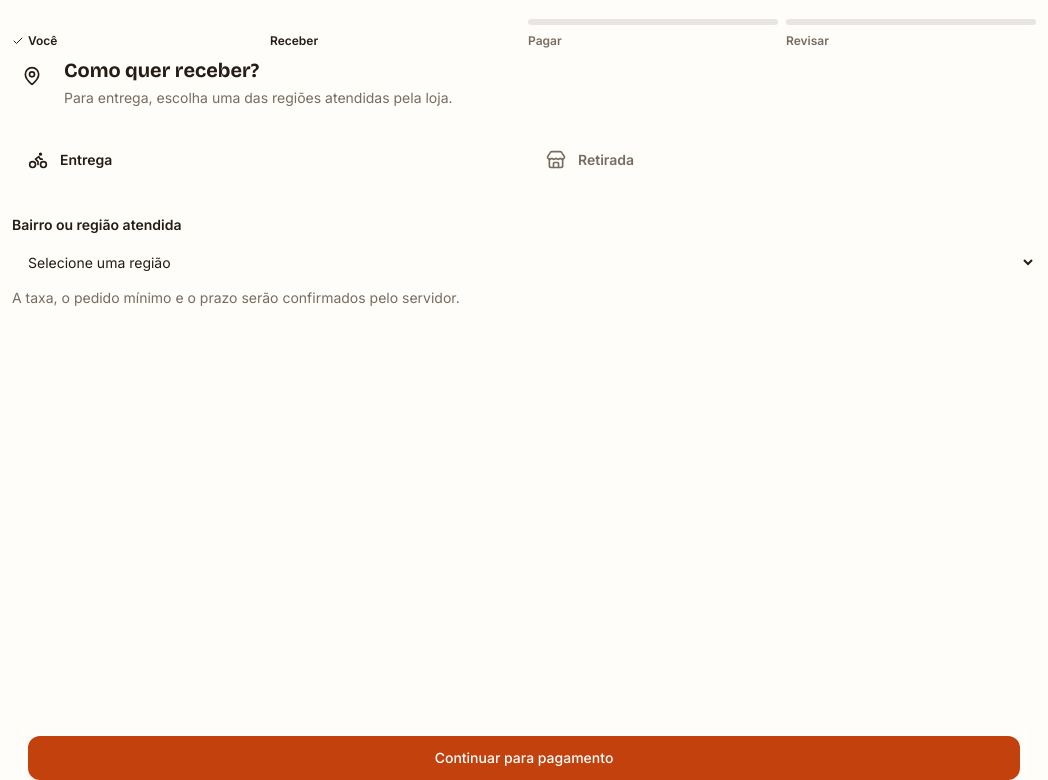
Test case: checkout público v2 › preserva o erro técnico da cotação sem acusar incorretamente a região
The image size is (1048, 780).
Select "Centro · R$ 5,00" in the dropdown labelled "Bairro ou região atendida": (524, 262) 12,240 -> 1036,284
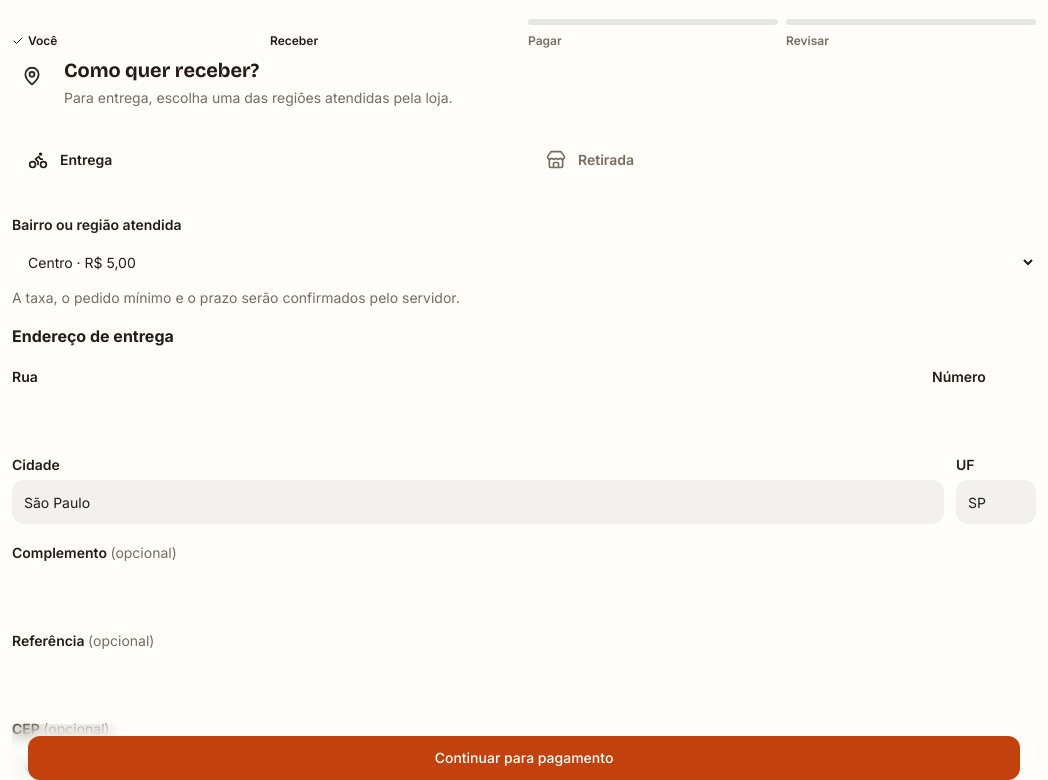
Click the button "Continuar para pagamento": click(524, 758) 28,736 -> 1020,779
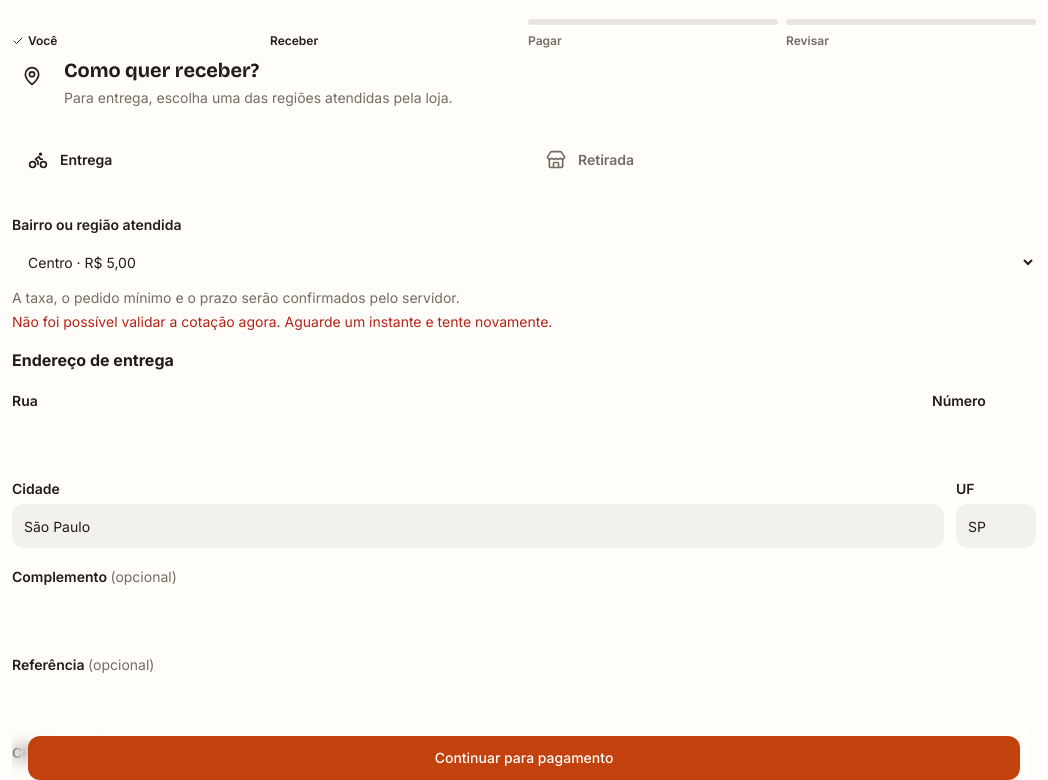
Expected: the heading "Como quer receber?" is shown, 64,58 -> 259,82
Result: the text "Não foi possível validar a cotação agora. Aguarde um instante e tente novamente." is shown at 12,313 -> 552,330
